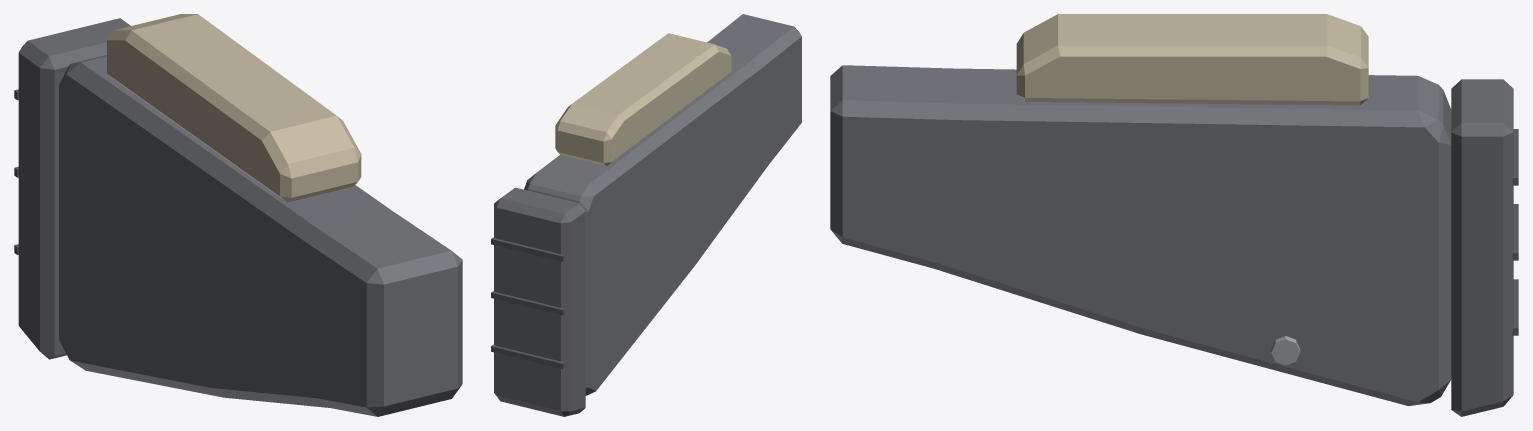
Rendered from att_heavy_stock.fbx.
The picture shows the model from 3 angles, left to right: view 1: azimuth 30°, elevation 25°; view 2: azimuth 150°, elevation 25°; view 3: azimuth 270°, elevation 25°; orthographic projection. The views are drawn at different scales.
Visible parts, largest first — view 1: att_heavy_stock; view 2: att_heavy_stock; view 3: att_heavy_stock.
Boxes of the visible parts, x1,y1,x2,y2 form: att_heavy_stock: (14, 14, 462, 416); att_heavy_stock: (491, 14, 801, 416); att_heavy_stock: (830, 14, 1518, 416).
Size of the model in its own units: 0.06 by 0.1947 by 0.3325.
